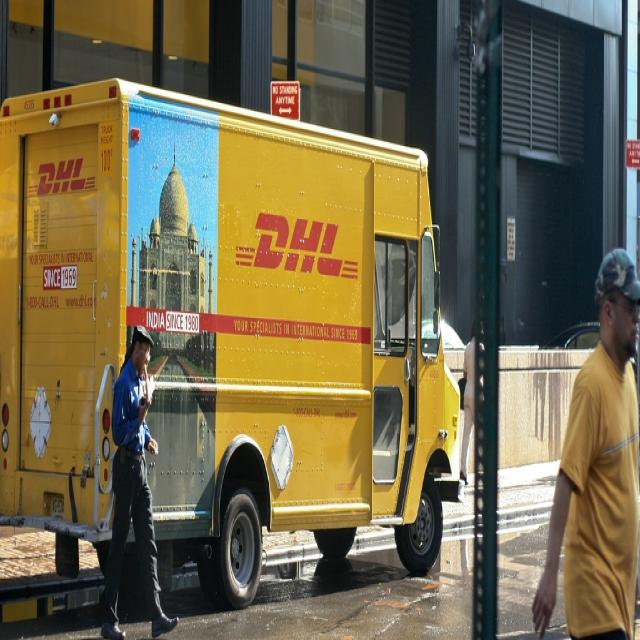dhl: (233, 203, 363, 290), (25, 154, 101, 203)
